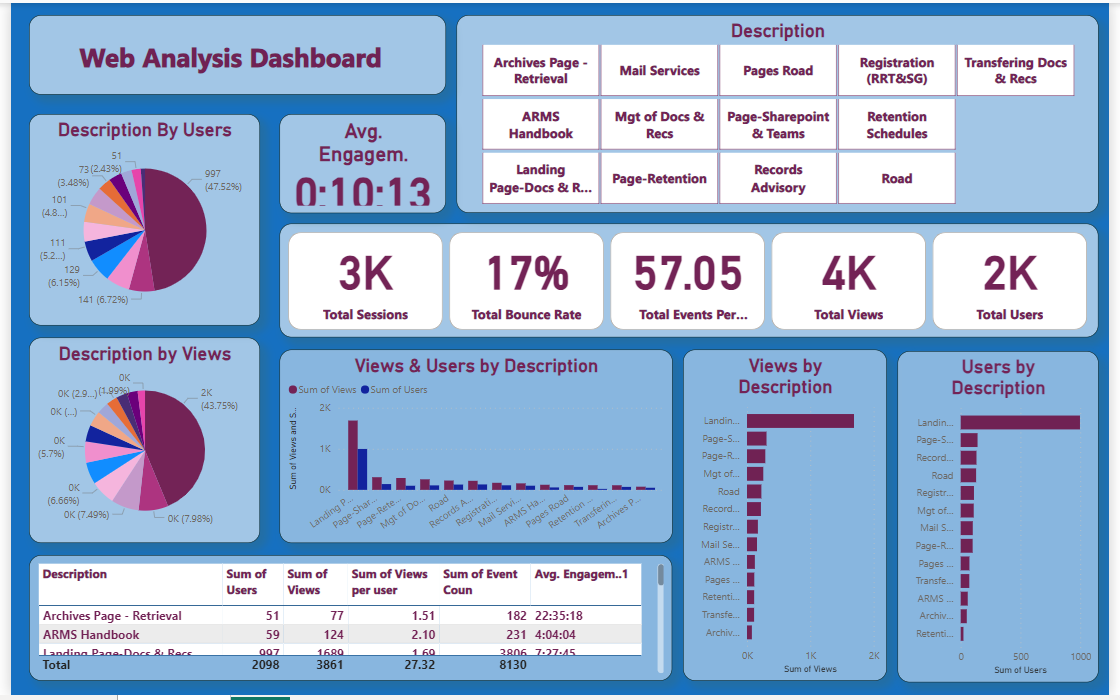

What the dashboard file says about the page in this screenshot:
{"tool":"powerbi","page":{"name":"Page 1","canvas":[1350,850],"ordinal":0},"visuals":[{"type":"cardVisual","fields":{"Data":["Sum(Table 1.Sessions)","Avg(Table 1.Bounce rate)","Sum(Table 1.Avg. Events Per User)","Sum(Table 1.Views)","Sum(Table 1.Users)"]},"box":[330,271,1006.7,140.1],"z":0},{"type":"slicer","title":"Description","fields":{"Values":["Table 1.Description"]},"box":[547.6,14.8,789.2,243.4],"z":1000},{"type":"clusteredColumnChart","title":"Views & Users by Description","fields":{"Category":["Table 1.Description"],"Y":["Sum(Table 1.Views)","Sum(Table 1.Users)"]},"box":[330,425.9,483.1,237.9],"z":2000},{"type":"pieChart","title":"Description by Views","fields":{"Category":["Table 1.Description"],"Y":["Sum(Table 1.Views)"]},"box":[22.1,411.2,283.9,252.6],"z":3000},{"type":"tableEx","fields":{"Values":["Table 1.Description","Sum(Table 1.Users)","Sum(Table 1.Views)","Sum(Table 1.Views per user)","Sum(Table 1.Event Coun)","Table 1.Avg. Engagem..1"]},"box":[22.1,678.5,791,154.9],"z":4000},{"type":"pieChart","title":"Description By Users","fields":{"Category":["Table 1.Description"],"Y":["Sum(Table 1.Users)"]},"box":[22.1,136.4,283.9,260],"z":5000},{"type":"textbox","box":[22.1,14.8,512.6,97.7],"z":6000},{"type":"clusteredBarChart","title":"Views by Description","fields":{"Category":["Table 1.Description"],"Y":["Sum(Table 1.Views)"]},"box":[826,425.9,250.8,407.5],"z":7000},{"type":"clusteredBarChart","title":"Users by Description","fields":{"Category":["Table 1.Description"],"Y":["Sum(Table 1.Users)"]},"box":[1089.7,427.8,247.1,407.5],"z":8000},{"type":"card","title":" Avg. Engagem.","fields":{"Values":["Min(Table 1.Avg. Engagem..1)"]},"box":[330,136.4,204.7,121.7],"z":9000}]}

Visuals, with their boxes in screenshot pixels (x1, y1, x2, y2), scaled from the page's 1350x850 canvas onto the 1120x700 screenshot:
cardVisual - Sum(Table 1.Sessions) x Avg(Table 1.Bounce rate): [274,223,1109,339]
"Description" slicer: [454,12,1109,213]
"Views & Users by Description" clusteredColumnChart: [274,351,675,547]
"Description by Views" pieChart: [18,339,254,547]
tableEx - Table 1.Description x Sum(Table 1.Users): [18,559,675,686]
"Description By Users" pieChart: [18,112,254,326]
textbox: [18,12,444,93]
"Views by Description" clusteredBarChart: [685,351,893,686]
"Users by Description" clusteredBarChart: [904,352,1109,688]
" Avg. Engagem." card: [274,112,444,213]
